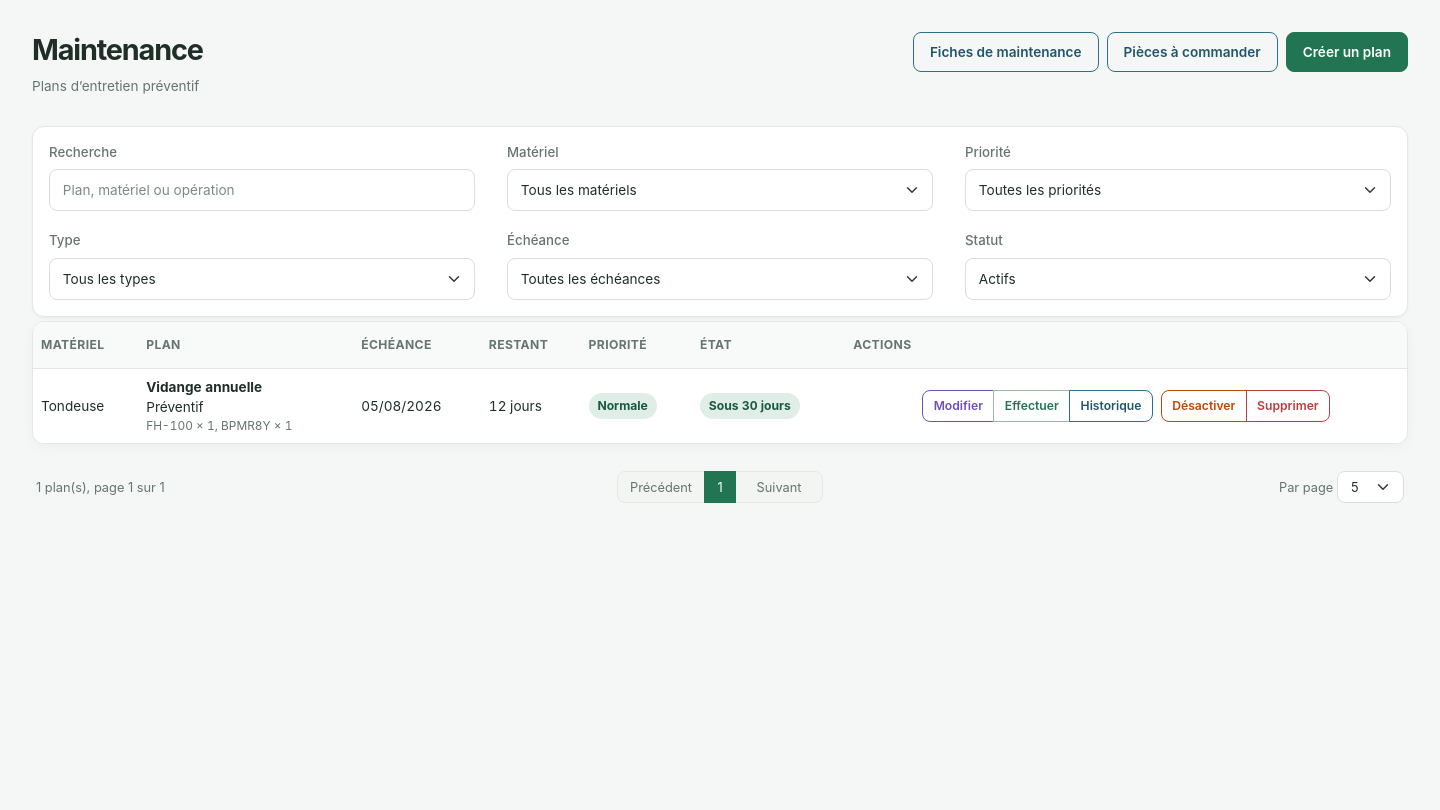
Test case: MaintenancePage › hides partial replacement without the existing skip-parts permission
Click the button with aria-label "Effectuer Vidange annuelle" at (1032, 406), box 993,390 -> 1070,422
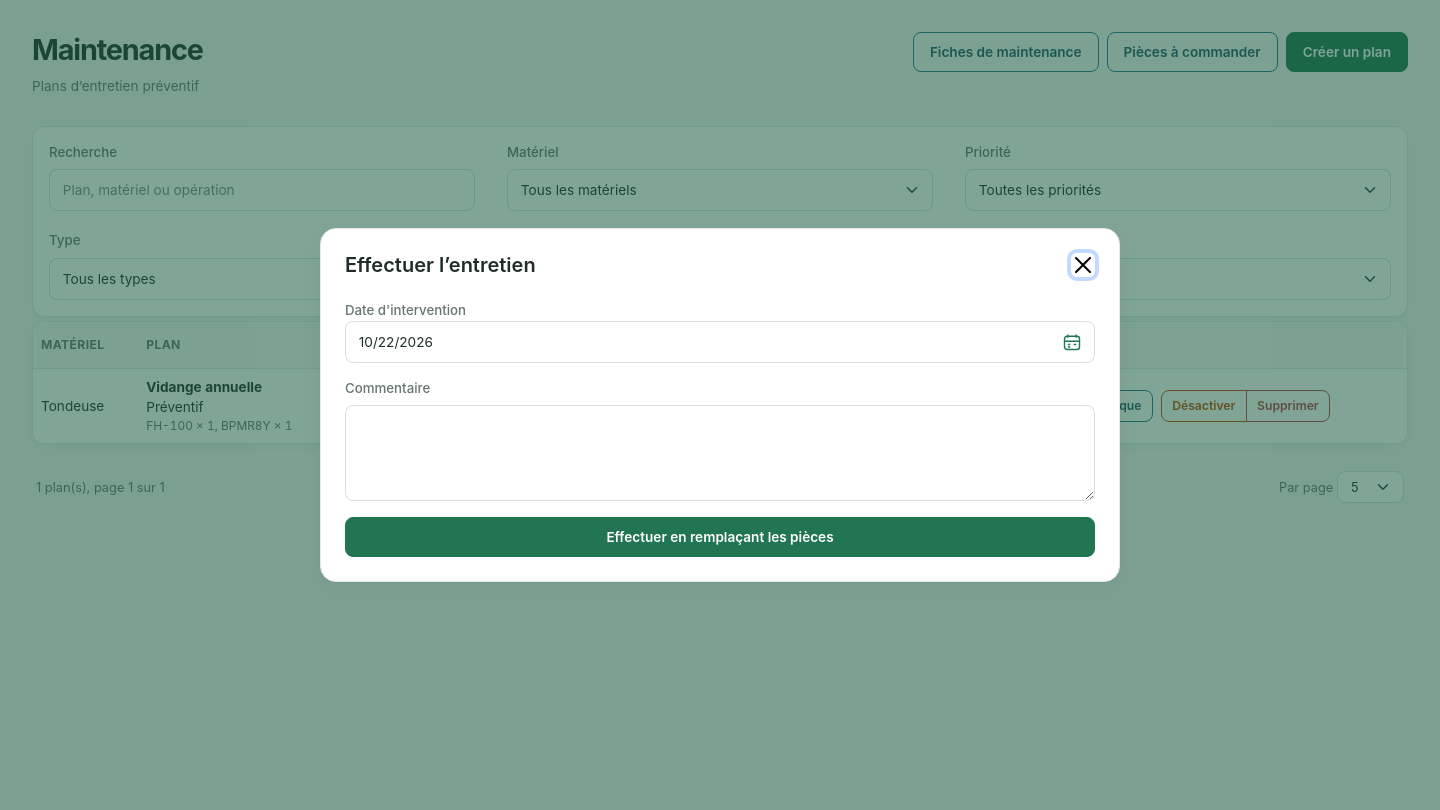
Expected: the button "Effectuer en remplaçant les pièces" is shown, 345,517 -> 1095,557
